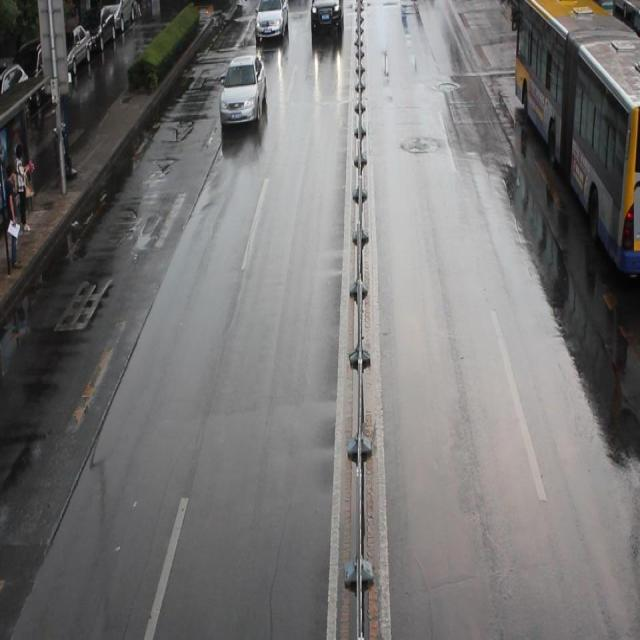car: (219, 54, 266, 126), (254, 1, 289, 39), (309, 1, 344, 38)
van: (514, 1, 640, 278)
